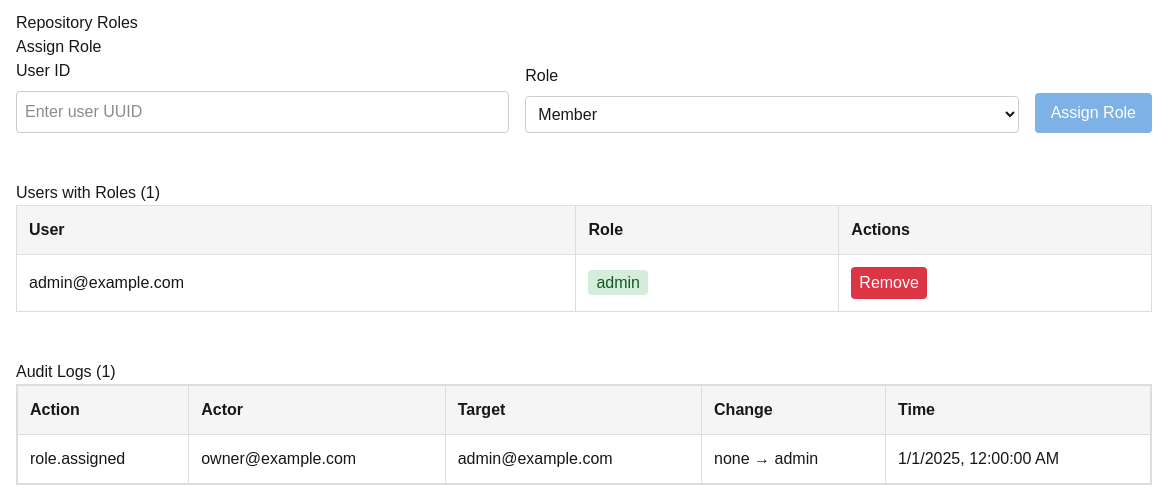
Test: <RepoRolesPage /> › disables assign button until user id entered
Expected: the heading "Users with Roles (1)" is shown, [16, 184, 160, 201]
Expected: the button "Assign Role" is disabled, [1035, 93, 1152, 133]
Type "user-9" into the field labelled "User ID" at (263, 112), box [16, 91, 509, 133]
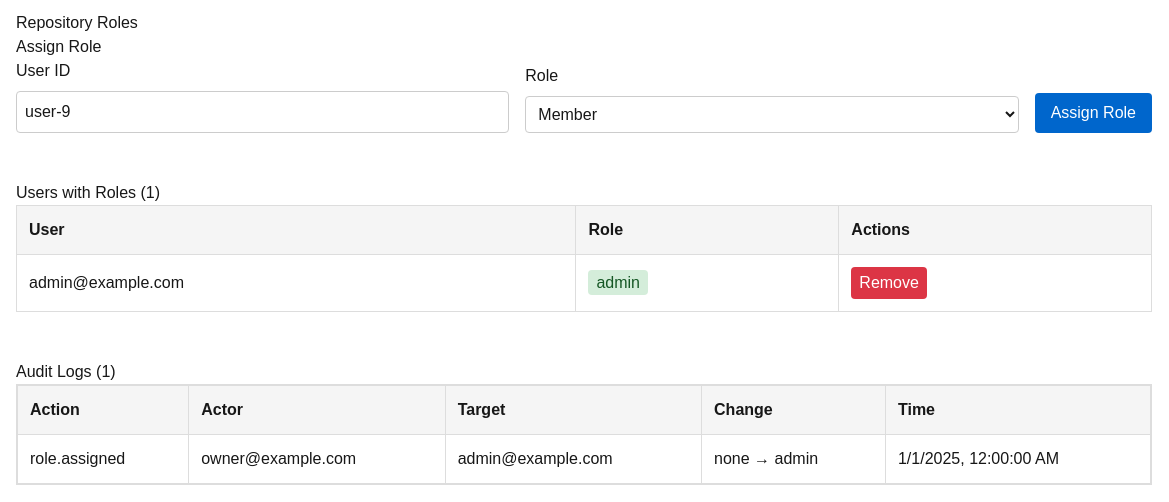
Expected: the button "Assign Role" is enabled, [1035, 93, 1152, 133]
